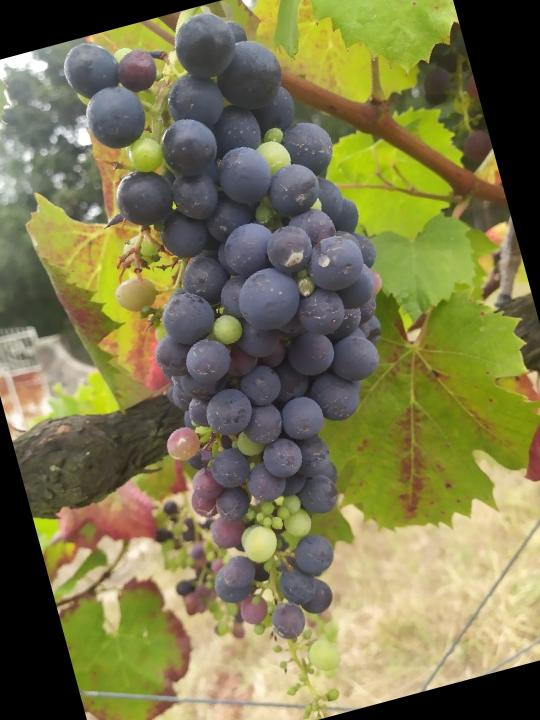grape: (53, 0, 490, 720)
